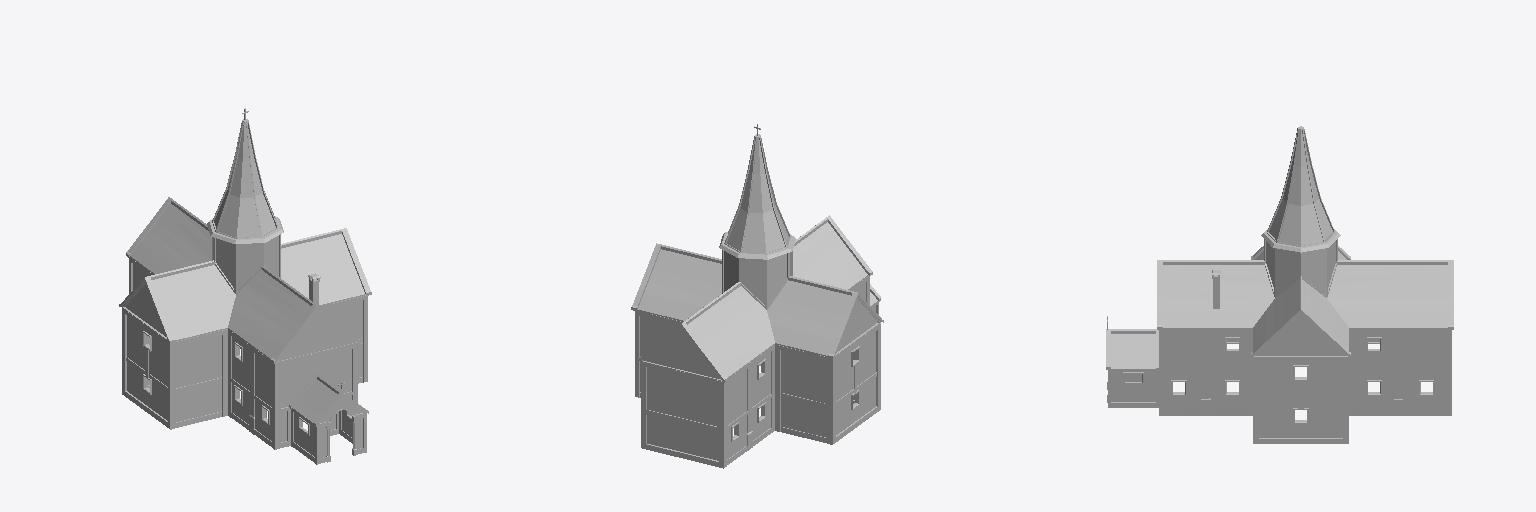
File: church.obj
3 renders of one model, left to right at view 1: azimuth 30°, elevation 25°; view 2: azimuth 150°, elevation 25°; view 3: azimuth 270°, elevation 25°, orthographic.
Parts seen in each view (by area): view 1: Roof, Base; view 2: Roof, Base; view 3: Roof, Base.
Part boxes in pixels (bbox=[...]): Roof: bbox=[119, 108, 371, 426]; Base: bbox=[122, 257, 367, 464]; Roof: bbox=[631, 124, 883, 382]; Base: bbox=[635, 276, 880, 468]; Roof: bbox=[1106, 126, 1453, 369]; Base: bbox=[1108, 329, 1451, 443].
Bounding box in the file's own units: 12.43 × 16.41 × 18.5.